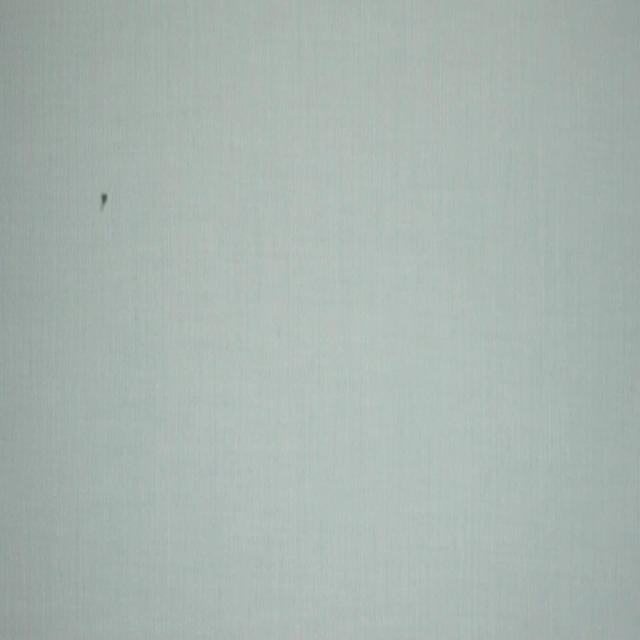dirty: (99, 190, 108, 212)
